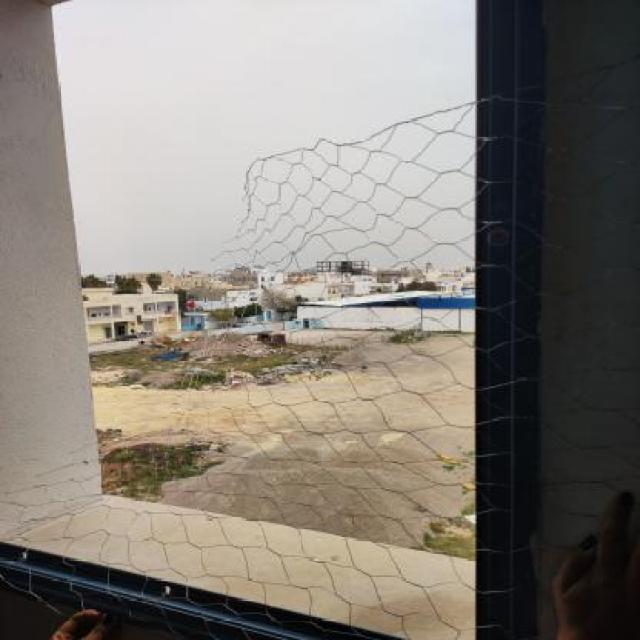fence line: (15, 138, 309, 496)
